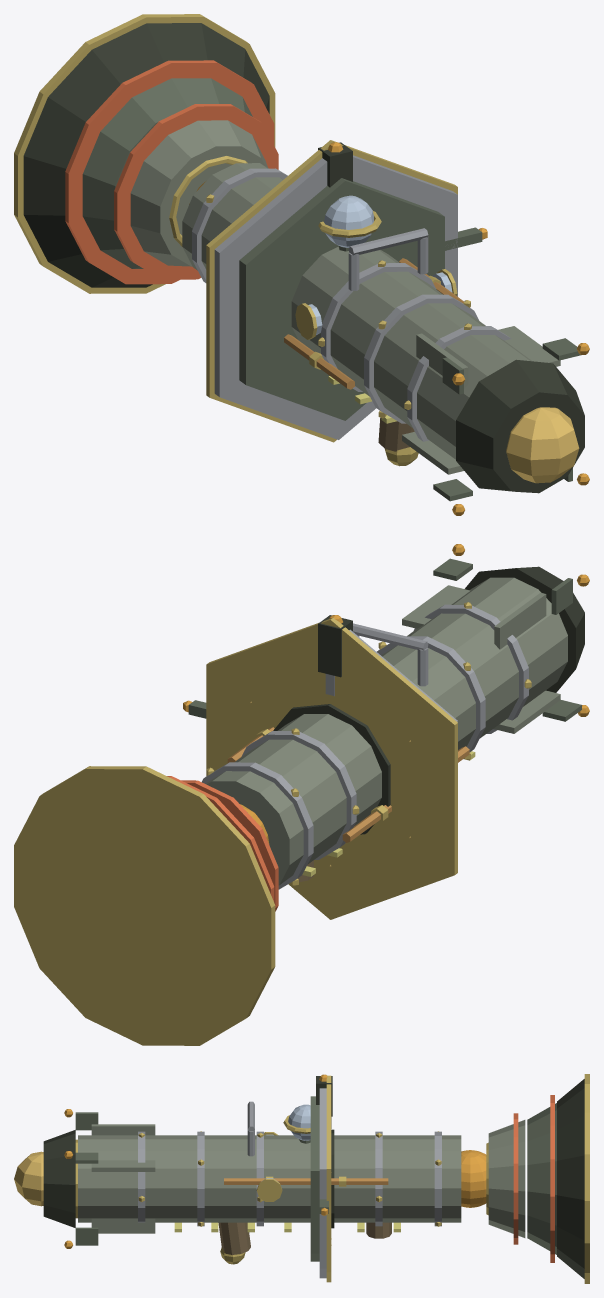
Rendered from raketenfaust.glb.
3 views of the same model, one above another, from view 1: azimuth 30°, elevation 25°; view 2: azimuth 150°, elevation 25°; view 3: azimuth 270°, elevation 25° (orthographic). The views are drawn at different scales.
Parts seen in each view (by area): view 1: raketenfaust; view 2: raketenfaust; view 3: raketenfaust.
Boxes of the visible parts, x1,y1,x2,y2 form: raketenfaust: (14,14,589,515); raketenfaust: (14,544,589,1045); raketenfaust: (14,1074,589,1283).
Size of the model in its own units: 0.2442 by 0.251 by 0.631.
